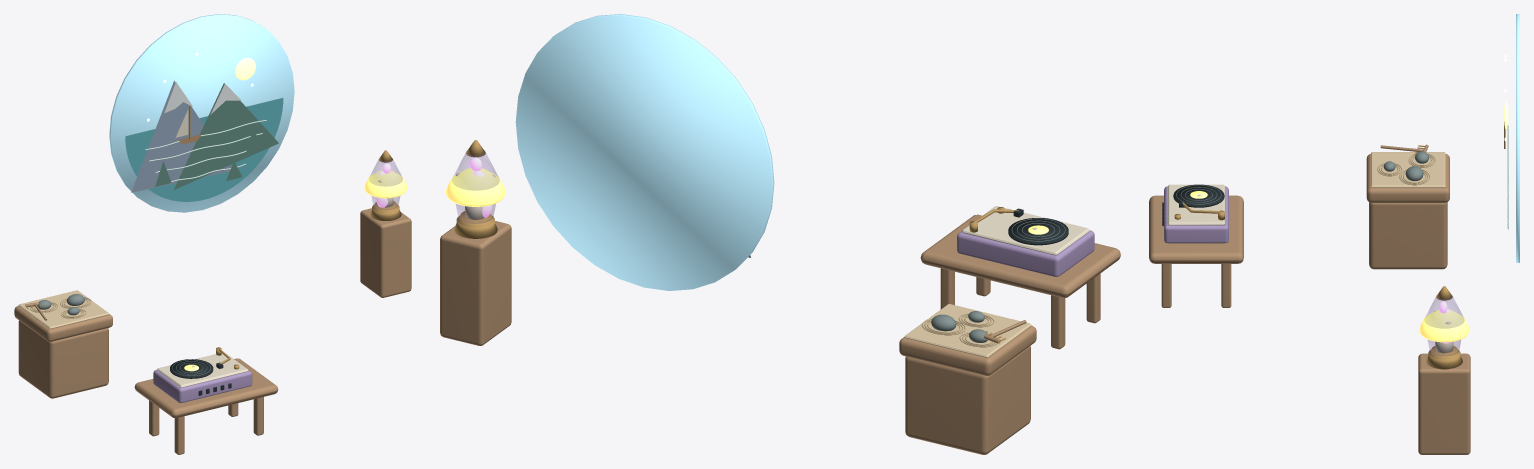
The model's file is room-collection.glb.
The picture shows the model from 3 angles, left to right: view 1: azimuth 30°, elevation 25°; view 2: azimuth 150°, elevation 25°; view 3: azimuth 270°, elevation 25°; orthographic projection. The views are drawn at different scales.
Visible parts, largest first — view 1: Collection_mountain_view, Collection_sand_garden, Collection_record_player, Collection_coast_view, Collection_lava_lamp, Collection_mushroom_lamp, Collection_coast_view_waves; view 2: Collection_coast_view, Collection_sand_garden, Collection_record_player, Collection_lava_lamp, Collection_mushroom_lamp; view 3: Collection_sand_garden, Collection_record_player, Collection_mushroom_lamp, Collection_lava_lamp, Collection_coast_view.
Part boxes in pixels (x1,y1,x2,y2): Collection_mountain_view: (109, 14, 294, 212); Collection_sand_garden: (14, 290, 112, 398); Collection_record_player: (134, 347, 278, 454); Collection_coast_view: (109, 14, 283, 201); Collection_lava_lamp: (361, 150, 410, 297); Collection_mushroom_lamp: (360, 170, 411, 297); Collection_coast_view_waves: (145, 120, 266, 182); Collection_coast_view: (515, 14, 774, 290); Collection_sand_garden: (899, 304, 1036, 454); Collection_record_player: (920, 206, 1120, 349); Collection_lava_lamp: (440, 140, 510, 345); Collection_mushroom_lamp: (440, 168, 511, 345); Collection_sand_garden: (1366, 144, 1449, 269); Collection_record_player: (1149, 184, 1243, 307); Collection_mushroom_lamp: (1418, 310, 1470, 454); Collection_lava_lamp: (1418, 286, 1470, 454); Collection_coast_view: (1504, 14, 1519, 262).
Bounding box in the file's own units: 4.24 × 2.96 × 2.97.
